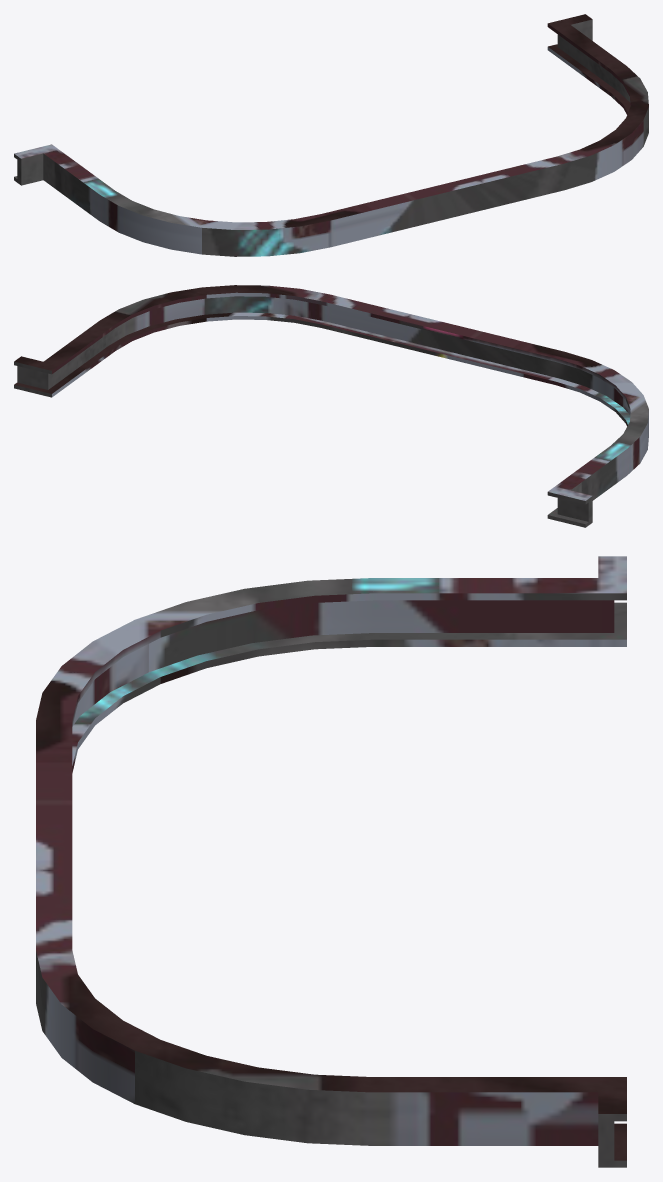
Rendered from beam_vert.fbx.
3 views of the same model, one above another, from view 1: azimuth 30°, elevation 25°; view 2: azimuth 150°, elevation 25°; view 3: azimuth 270°, elevation 25° (orthographic). The views are drawn at different scales.
Parts seen in each view (by area): view 1: beam_hor_01.002; view 2: beam_hor_01.002; view 3: beam_hor_01.002.
Part boxes in pixels (x1,y1,x2,y2): beam_hor_01.002: (14, 14, 648, 256); beam_hor_01.002: (14, 285, 648, 527); beam_hor_01.002: (36, 556, 626, 1167).
Size of the model in its own units: 4661 by 209 by 2088.
